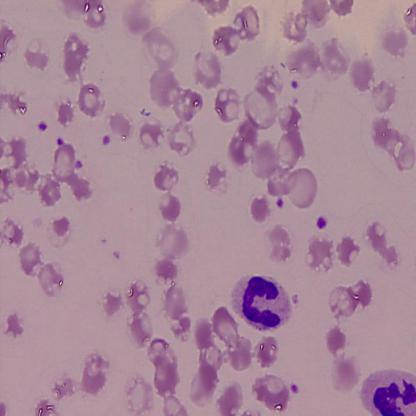Band Neutrophil: (228, 272, 294, 332)
